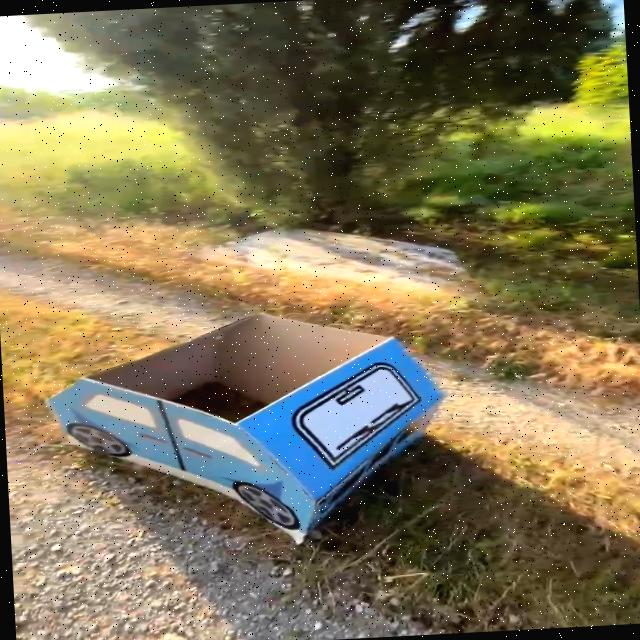blue_car: (30, 308, 464, 550)
